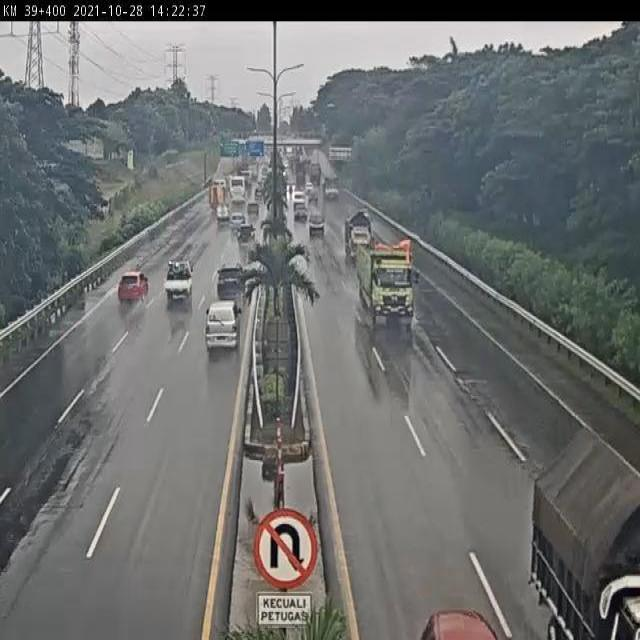ARABA: (163, 258, 194, 302)
KAMYONET: (344, 207, 371, 265)
TIR: (358, 240, 420, 329)
